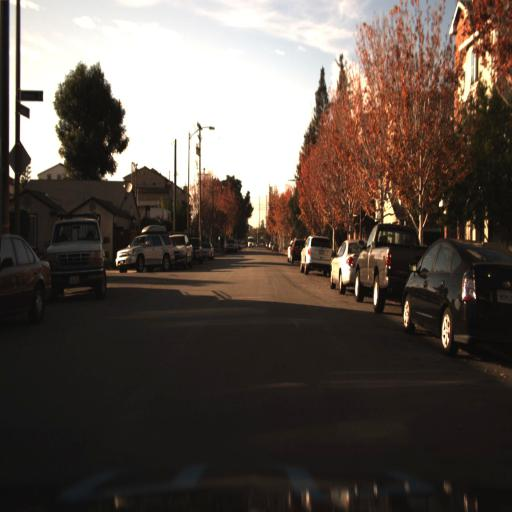car: (401, 238, 512, 358), (353, 220, 431, 315), (45, 210, 108, 304), (0, 233, 52, 329), (113, 220, 173, 276), (326, 231, 364, 300), (115, 225, 174, 269), (326, 235, 366, 294), (298, 234, 335, 276), (299, 234, 333, 278), (169, 228, 193, 271), (169, 232, 192, 266), (188, 231, 204, 267), (200, 236, 218, 264)
